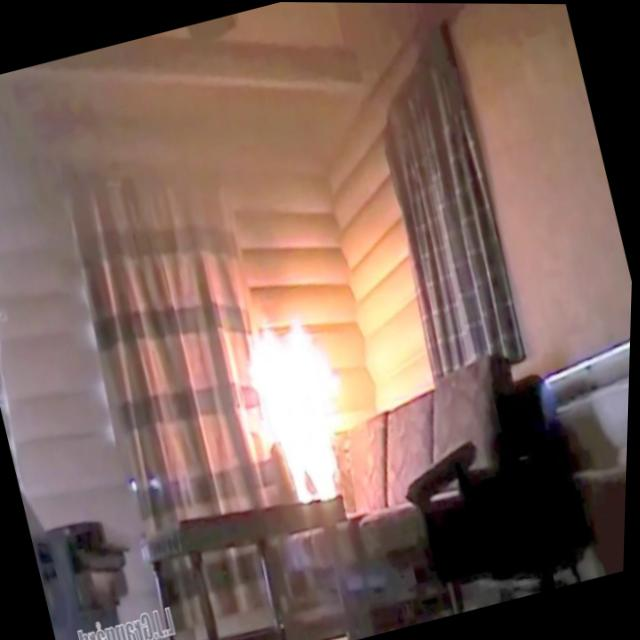fire: (224, 301, 385, 528)
